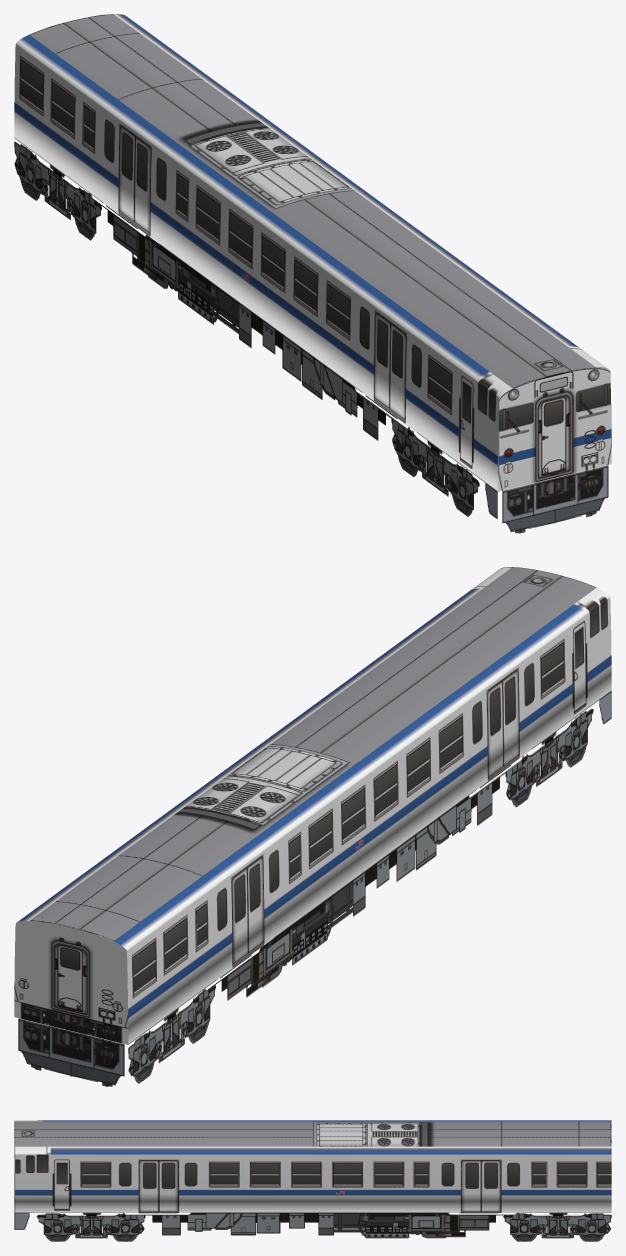
File: car1.glb
3 renders of one model, top to bottom at view 1: azimuth 30°, elevation 25°; view 2: azimuth 150°, elevation 25°; view 3: azimuth 270°, elevation 25°, orthographic. The views are drawn at different scales.
Parts seen in each view (by area): view 1: car1; view 2: car1; view 3: car1.
Boxes of the visible parts, x1=… form: car1: x1=14, y1=14, x2=611, y2=533; car1: x1=14, y1=567, x2=611, y2=1086; car1: x1=14, y1=1120, x2=611, y2=1241.
Bounding box in the file's own units: 2.9 × 3.65 × 21.33.
9 materials, 8 textured.
